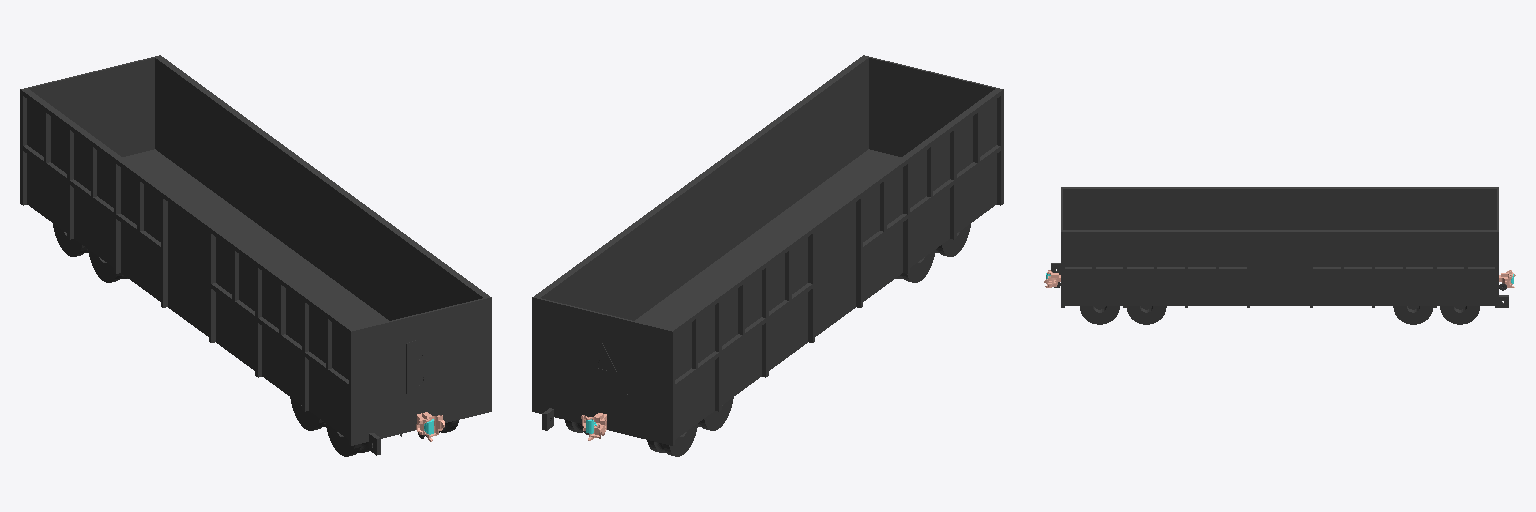
robot.urdf — single_carriage:
<?xml version="1.0" encoding="utf-8"?>
<!-- This URDF was automatically created by SolidWorks to URDF Exporter! Originally created by Stephen Brawner (brawner@gmail.com) 
     Commit Version: 1.6.0-4-g7f85cfe  Build Version: 1.6.7995.38578
     For more information, please see http://wiki.ros.org/sw_urdf_exporter -->
<robot
  name="single_carriage">
  <link
    name="base_link">
    <inertial>
      <origin
        xyz="-0.000871958345771546 -0.000549730972082286 0.203498642914054"
        rpy="0 0 0" />
      <mass
        value="11771.9297423622" />
      <inertia
        ixx="222136.871694353"
        ixy="-0.704377881275329"
        ixz="-8.55566928414991"
        iyy="19820.6060681922"
        iyz="6.58145912618343"
        izz="228900.206069743" />
    </inertial>
    <visual>
      <origin
        xyz="0 0 0"
        rpy="0 0 0" />
      <geometry>
        <mesh
          filename="package://single_carriage/meshes/base_link.STL" />
      </geometry>
      <material
        name="">
        <color
          rgba="0.309803921568627 0.309803921568627 0.309803921568627 1" />
      </material>
    </visual>
    <collision>
      <origin
        xyz="0 0 0"
        rpy="0 0 0" />
      <geometry>
        <mesh
          filename="package://single_carriage/meshes/base_link.STL" />
      </geometry>
    </collision>
  </link>
  <link
    name="wr1">
    <inertial>
      <origin
        xyz="0.1 0 1.11022302462516E-16"
        rpy="0 0 0" />
      <mass
        value="419.648305275831" />
      <inertia
        ixx="76.5211323178222"
        ixy="-4.78304134730335E-15"
        ixz="-1.15379614571497E-16"
        iyy="48.4740196524043"
        iyz="-3.4506541142972E-15"
        izz="48.4740196524043" />
    </inertial>
    <visual>
      <origin
        xyz="0 0 0"
        rpy="0 0 0" />
      <geometry>
        <mesh
          filename="package://single_carriage/meshes/wr1.STL" />
      </geometry>
      <material
        name="">
        <color
          rgba="0.298039215686275 0.298039215686275 0.298039215686275 1" />
      </material>
    </visual>
    <collision>
      <origin
        xyz="0 0 0"
        rpy="0 0 0" />
      <geometry>
        <mesh
          filename="package://single_carriage/meshes/wr1.STL" />
      </geometry>
    </collision>
  </link>
  <joint
    name="wr1"
    type="continuous">
    <origin
      xyz="0.84 5.4 -0.65"
      rpy="0 0 0" />
    <parent
      link="base_link" />
    <child
      link="wr1" />
    <axis
      xyz="-1 0 0" />
    <limit
      lower="0"
      upper="0"
      effort="0"
      velocity="0" />
  </joint>
  <link
    name="wl1">
    <inertial>
      <origin
        xyz="-0.1 0 -1.11022302462516E-16"
        rpy="0 0 0" />
      <mass
        value="419.64830527583" />
      <inertia
        ixx="76.5211323178222"
        ixy="-3.20752085296622E-15"
        ixz="-1.50851007052655E-15"
        iyy="48.4740196524043"
        iyz="-6.17272436868412E-16"
        izz="48.4740196524043" />
    </inertial>
    <visual>
      <origin
        xyz="0 0 0"
        rpy="0 0 0" />
      <geometry>
        <mesh
          filename="package://single_carriage/meshes/wl1.STL" />
      </geometry>
      <material
        name="">
        <color
          rgba="0.298039215686275 0.298039215686275 0.298039215686275 1" />
      </material>
    </visual>
    <collision>
      <origin
        xyz="0 0 0"
        rpy="0 0 0" />
      <geometry>
        <mesh
          filename="package://single_carriage/meshes/wl1.STL" />
      </geometry>
    </collision>
  </link>
  <joint
    name="wl1"
    type="continuous">
    <origin
      xyz="-0.84 5.4 -0.65"
      rpy="0 0 0" />
    <parent
      link="base_link" />
    <child
      link="wl1" />
    <axis
      xyz="-1 0 0" />
    <limit
      lower="0"
      upper="0"
      effort="0"
      velocity="0" />
  </joint>
  <link
    name="wr2">
    <inertial>
      <origin
        xyz="0.0999999999999999 0 0"
        rpy="0 0 0" />
      <mass
        value="419.648305275831" />
      <inertia
        ixx="76.5211323178223"
        ixy="-3.28443737207637E-15"
        ixz="-1.26556621229307E-15"
        iyy="48.4740196524043"
        iyz="-4.86589935011495E-15"
        izz="48.4740196524043" />
    </inertial>
    <visual>
      <origin
        xyz="0 0 0"
        rpy="0 0 0" />
      <geometry>
        <mesh
          filename="package://single_carriage/meshes/wr2.STL" />
      </geometry>
      <material
        name="">
        <color
          rgba="0.298039215686275 0.298039215686275 0.298039215686275 1" />
      </material>
    </visual>
    <collision>
      <origin
        xyz="0 0 0"
        rpy="0 0 0" />
      <geometry>
        <mesh
          filename="package://single_carriage/meshes/wr2.STL" />
      </geometry>
    </collision>
  </link>
  <joint
    name="wr2"
    type="continuous">
    <origin
      xyz="0.84 4 -0.65"
      rpy="0 0 0" />
    <parent
      link="base_link" />
    <child
      link="wr2" />
    <axis
      xyz="-1 0 0" />
    <limit
      lower="0"
      upper="0"
      effort="0"
      velocity="0" />
  </joint>
  <link
    name="wl2">
    <inertial>
      <origin
        xyz="-0.0999999999999999 0 0"
        rpy="0 0 0" />
      <mass
        value="419.648305275831" />
      <inertia
        ixx="76.5211323178223"
        ixy="-1.27275613008951E-15"
        ixz="-1.52466175911111E-16"
        iyy="48.4740196524043"
        iyz="5.76795555762288E-16"
        izz="48.4740196524043" />
    </inertial>
    <visual>
      <origin
        xyz="0 0 0"
        rpy="0 0 0" />
      <geometry>
        <mesh
          filename="package://single_carriage/meshes/wl2.STL" />
      </geometry>
      <material
        name="">
        <color
          rgba="0.298039215686275 0.298039215686275 0.298039215686275 1" />
      </material>
    </visual>
    <collision>
      <origin
        xyz="0 0 0"
        rpy="0 0 0" />
      <geometry>
        <mesh
          filename="package://single_carriage/meshes/wl2.STL" />
      </geometry>
    </collision>
  </link>
  <joint
    name="wl2"
    type="continuous">
    <origin
      xyz="-0.84 4 -0.65"
      rpy="0 0 0" />
    <parent
      link="base_link" />
    <child
      link="wl2" />
    <axis
      xyz="-1 0 0" />
    <limit
      lower="0"
      upper="0"
      effort="0"
      velocity="0" />
  </joint>
  <link
    name="wr3">
    <inertial>
      <origin
        xyz="0.0999999999999999 0 0"
        rpy="0 0 0" />
      <mass
        value="419.64830527583" />
      <inertia
        ixx="76.5211323178222"
        ixy="-8.16888503379963E-15"
        ixz="-8.44991821401153E-17"
        iyy="48.4740196524043"
        iyz="1.04625509644851E-16"
        izz="48.4740196524043" />
    </inertial>
    <visual>
      <origin
        xyz="0 0 0"
        rpy="0 0 0" />
      <geometry>
        <mesh
          filename="package://single_carriage/meshes/wr3.STL" />
      </geometry>
      <material
        name="">
        <color
          rgba="0.298039215686275 0.298039215686275 0.298039215686275 1" />
      </material>
    </visual>
    <collision>
      <origin
        xyz="0 0 0"
        rpy="0 0 0" />
      <geometry>
        <mesh
          filename="package://single_carriage/meshes/wr3.STL" />
      </geometry>
    </collision>
  </link>
  <joint
    name="wr3"
    type="continuous">
    <origin
      xyz="0.84 -4 -0.65"
      rpy="0 0 0" />
    <parent
      link="base_link" />
    <child
      link="wr3" />
    <axis
      xyz="-1 0 0" />
    <limit
      lower="0"
      upper="0"
      effort="0"
      velocity="0" />
  </joint>
  <link
    name="wl3">
    <inertial>
      <origin
        xyz="-0.1 0 -1.11022302462516E-16"
        rpy="0 0 0" />
      <mass
        value="419.648305275831" />
      <inertia
        ixx="76.5211323178223"
        ixy="-1.6757331009332E-15"
        ixz="1.68978427054539E-16"
        iyy="48.4740196524043"
        iyz="-1.84314369322535E-16"
        izz="48.4740196524043" />
    </inertial>
    <visual>
      <origin
        xyz="0 0 0"
        rpy="0 0 0" />
      <geometry>
        <mesh
          filename="package://single_carriage/meshes/wl3.STL" />
      </geometry>
      <material
        name="">
        <color
          rgba="0.298039215686275 0.298039215686275 0.298039215686275 1" />
      </material>
    </visual>
    <collision>
      <origin
        xyz="0 0 0"
        rpy="0 0 0" />
      <geometry>
        <mesh
          filename="package://single_carriage/meshes/wl3.STL" />
      </geometry>
    </collision>
  </link>
  <joint
    name="wl3"
    type="continuous">
    <origin
      xyz="-0.84 -4 -0.65"
      rpy="0 0 0" />
    <parent
      link="base_link" />
    <child
      link="wl3" />
    <axis
      xyz="-1 0 0" />
    <limit
      lower="0"
      upper="0"
      effort="0"
      velocity="0" />
  </joint>
  <link
    name="wr4">
    <inertial>
      <origin
        xyz="0.1 0 -1.11022302462516E-16"
        rpy="0 0 0" />
      <mass
        value="419.648305275831" />
      <inertia
        ixx="76.5211323178223"
        ixy="-5.53273218274209E-15"
        ixz="6.31156561868667E-16"
        iyy="48.4740196524043"
        iyz="-7.09068220805519E-16"
        izz="48.4740196524043" />
    </inertial>
    <visual>
      <origin
        xyz="0 0 0"
        rpy="0 0 0" />
      <geometry>
        <mesh
          filename="package://single_carriage/meshes/wr4.STL" />
      </geometry>
      <material
        name="">
        <color
          rgba="0.298039215686275 0.298039215686275 0.298039215686275 1" />
      </material>
    </visual>
    <collision>
      <origin
        xyz="0 0 0"
        rpy="0 0 0" />
      <geometry>
        <mesh
          filename="package://single_carriage/meshes/wr4.STL" />
      </geometry>
    </collision>
  </link>
  <joint
    name="wr4"
    type="continuous">
    <origin
      xyz="0.84 -5.4 -0.65"
      rpy="0 0 0" />
    <parent
      link="base_link" />
    <child
      link="wr4" />
    <axis
      xyz="-1 0 0" />
    <limit
      lower="0"
      upper="0"
      effort="0"
      velocity="0" />
  </joint>
  <link
    name="wl4">
    <inertial>
      <origin
        xyz="-0.1 0 1.11022302462516E-16"
        rpy="0 0 0" />
      <mass
        value="419.648305275831" />
      <inertia
        ixx="76.5211323178223"
        ixy="-3.43888320585222E-15"
        ixz="7.47863790181562E-16"
        iyy="48.4740196524043"
        iyz="3.87566136591152E-15"
        izz="48.4740196524043" />
    </inertial>
    <visual>
      <origin
        xyz="0 0 0"
        rpy="0 0 0" />
      <geometry>
        <mesh
          filename="package://single_carriage/meshes/wl4.STL" />
      </geometry>
      <material
        name="">
        <color
          rgba="0.298039215686275 0.298039215686275 0.298039215686275 1" />
      </material>
    </visual>
    <collision>
      <origin
        xyz="0 0 0"
        rpy="0 0 0" />
      <geometry>
        <mesh
          filename="package://single_carriage/meshes/wl4.STL" />
      </geometry>
    </collision>
  </link>
  <joint
    name="wl4"
    type="continuous">
    <origin
      xyz="-0.84 -5.4 -0.65"
      rpy="0 0 0" />
    <parent
      link="base_link" />
    <child
      link="wl4" />
    <axis
      xyz="-1 0 0" />
    <limit
      lower="0"
      upper="0"
      effort="0"
      velocity="0" />
  </joint>
  <link
    name="buffera1">
    <inertial>
      <origin
        xyz="0.37786294261192 0.0104561973276471 -0.0128538090287759"
        rpy="0 0 0" />
      <mass
        value="21.222663477634" />
      <inertia
        ixx="0.483372365590592"
        ixy="-0.0834919697701514"
        ixz="0.0691394497683161"
        iyy="1.90175332091465"
        iyz="-0.000227720987181583"
        izz="2.01631259846016" />
    </inertial>
    <visual>
      <origin
        xyz="0 0 0"
        rpy="0 0 0" />
      <geometry>
        <mesh
          filename="package://single_carriage/meshes/buffera1.STL" />
      </geometry>
      <material
        name="">
        <color
          rgba="1 0.764705882352941 0.694117647058824 1" />
      </material>
    </visual>
    <collision>
      <origin
        xyz="0 0 0"
        rpy="0 0 0" />
      <geometry>
        <mesh
          filename="package://single_carriage/meshes/buffera1.STL" />
      </geometry>
    </collision>
  </link>
  <joint
    name="buffera1"
    type="prismatic">
    <origin
      xyz="0 6.25 -0.2825"
      rpy="0 0 1.5708" />
    <parent
      link="base_link" />
    <child
      link="buffera1" />
    <axis
      xyz="-1 0 0" />
    <limit
      lower="0"
      upper="0"
      effort="0"
      velocity="0" />
  </joint>
  <link
    name="buffera2">
    <inertial>
      <origin
        xyz="0.0282464073002029 -0.0193101229903139 0.000418380290337139"
        rpy="0 0 0" />
      <mass
        value="4.21285337351404" />
      <inertia
        ixx="0.0440956773455516"
        ixy="-0.00525856458676471"
        ixz="-0.000174566747653994"
        iyy="0.0300435932801128"
        iyz="9.8365832373885E-05"
        izz="0.0367158398070253" />
    </inertial>
    <visual>
      <origin
        xyz="0 0 0"
        rpy="0 0 0" />
      <geometry>
        <mesh
          filename="package://single_carriage/meshes/buffera2.STL" />
      </geometry>
      <material
        name="">
        <color
          rgba="0.341176470588235 1 0.988235294117647 1" />
      </material>
    </visual>
    <collision>
      <origin
        xyz="0 0 0"
        rpy="0 0 0" />
      <geometry>
        <mesh
          filename="package://single_carriage/meshes/buffera2.STL" />
      </geometry>
    </collision>
  </link>
  <joint
    name="buffera2"
    type="revolute">
    <origin
      xyz="0.69186 -0.0955 0.008"
      rpy="3.1416 0 1.5708" />
    <parent
      link="buffera1" />
    <child
      link="buffera2" />
    <axis
      xyz="0 0 -1" />
    <limit
      lower="0"
      upper="0"
      effort="0"
      velocity="0" />
  </joint>
  <link
    name="bufferb1">
    <inertial>
      <origin
        xyz="0.377862940733308 0.0104561963157773 -0.0128538091896643"
        rpy="0 0 0" />
      <mass
        value="21.2226633423904" />
      <inertia
        ixx="0.483372361781699"
        ixy="-0.0834919628994019"
        ixz="0.069139450998706"
        iyy="1.90175330793061"
        iyz="-0.000227720335022887"
        izz="2.01631258192833" />
    </inertial>
    <visual>
      <origin
        xyz="0 0 0"
        rpy="0 0 0" />
      <geometry>
        <mesh
          filename="package://single_carriage/meshes/bufferb1.STL" />
      </geometry>
      <material
        name="">
        <color
          rgba="1 0.764705882352941 0.694117647058824 1" />
      </material>
    </visual>
    <collision>
      <origin
        xyz="0 0 0"
        rpy="0 0 0" />
      <geometry>
        <mesh
          filename="package://single_carriage/meshes/bufferb1.STL" />
      </geometry>
    </collision>
  </link>
  <joint
    name="bufferb1"
    type="prismatic">
    <origin
      xyz="0 -6.25 -0.2825"
      rpy="0 0 -1.5708" />
    <parent
      link="base_link" />
    <child
      link="bufferb1" />
    <axis
      xyz="1 0 0" />
    <limit
      lower="0"
      upper="0"
      effort="0"
      velocity="0" />
  </joint>
  <link
    name="bufferb2">
    <inertial>
      <origin
        xyz="0.0282464073002024 -0.0193101229903148 0.00041838029033725"
        rpy="0 0 0" />
      <mass
        value="4.21285337351401" />
      <inertia
        ixx="0.0440956773455515"
        ixy="-0.00525856458676472"
        ixz="-0.000174566747654006"
        iyy="0.0300435932801127"
        iyz="9.83658323739732E-05"
        izz="0.0367158398070251" />
    </inertial>
    <visual>
      <origin
        xyz="0 0 0"
        rpy="0 0 0" />
      <geometry>
        <mesh
          filename="package://single_carriage/meshes/bufferb2.STL" />
      </geometry>
      <material
        name="">
        <color
          rgba="0.341176470588235 1 0.988235294117647 1" />
      </material>
    </visual>
    <collision>
      <origin
        xyz="0 0 0"
        rpy="0 0 0" />
      <geometry>
        <mesh
          filename="package://single_carriage/meshes/bufferb2.STL" />
      </geometry>
    </collision>
  </link>
  <joint
    name="bufferb2"
    type="revolute">
    <origin
      xyz="0.69186 -0.0955 0.008"
      rpy="3.1416 0 1.5708" />
    <parent
      link="bufferb1" />
    <child
      link="bufferb2" />
    <axis
      xyz="0 1 0" />
    <limit
      lower="0"
      upper="0"
      effort="0"
      velocity="0" />
  </joint>
</robot>

--- Facts derived from the render (not from the file) ---
3 views of the same robot in one strip: view 1: azimuth 30°, elevation 25°; view 2: azimuth 150°, elevation 25°; view 3: azimuth 270°, elevation 25° (orthographic).
Robot: single_carriage — 13 links, 12 joints (2 revolute, 8 continuous, 2 prismatic); root link base_link; default pose: all joints at 0.
Links seen in each view (by area): view 1: base_link, wl4; view 2: base_link, wl1; view 3: base_link, wr1, wr4, wr2, wr3.
Boxes of the visible links, bbox=[...] form: base_link: bbox=[20, 55, 491, 455]; wl4: bbox=[326, 424, 369, 456]; base_link: bbox=[532, 55, 1003, 445]; wl1: bbox=[647, 424, 697, 456]; base_link: bbox=[1051, 187, 1508, 309]; wr1: bbox=[1440, 306, 1479, 324]; wr4: bbox=[1080, 306, 1119, 324]; wr2: bbox=[1393, 306, 1432, 324]; wr3: bbox=[1127, 306, 1166, 324].
Size in the robot's own frame: 3.2 by 14.12 by 3.25 metres.
Meshes: 13 distinct files referenced, 13 mesh visuals loaded (13 binary STL).
